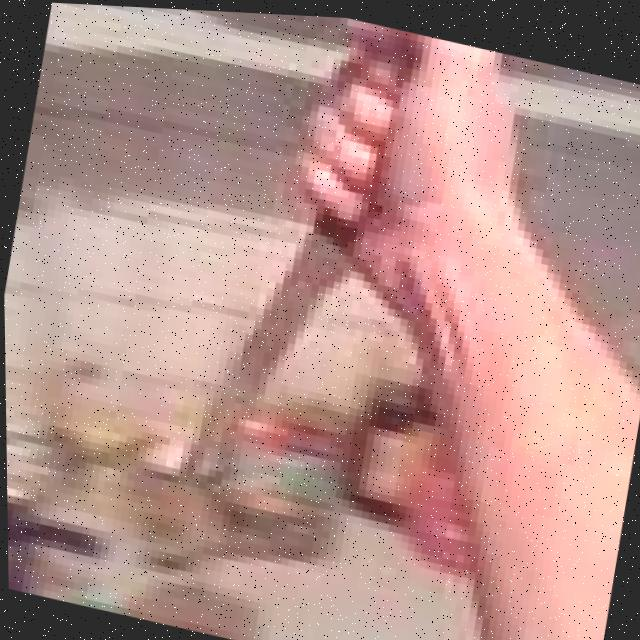knife: (161, 181, 363, 499)
